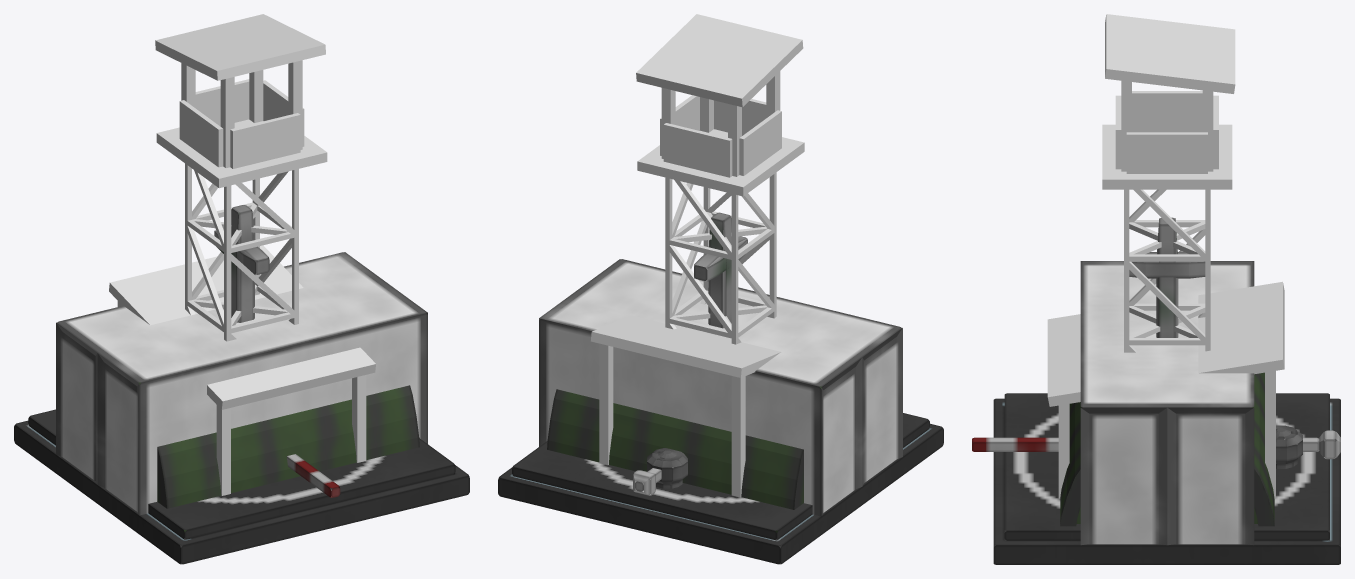
Rendered from military props.fbx.
3 views of the same model, side by side, from view 1: azimuth 30°, elevation 25°; view 2: azimuth 150°, elevation 25°; view 3: azimuth 270°, elevation 25° (orthographic). The views are drawn at different scales.
Visible parts, largest first — view 1: container, helicopterStand, hangar, cuboid_6, cuboid_74, cuboid_65, cuboid_73, cuboid_71, beveled_cuboid, cuboid_72, cuboid_4, cuboid_3 (+9 smaller); view 2: container, helicopterStand, hangar, cuboid_74, cuboid_6, cuboid_65, cuboid_72, cuboid_71, cuboid_2, cuboid_5, beveled_cuboid, cylinder (+13 smaller); view 3: container, helicopterStand, cuboid_6, cuboid_74, hangar, cuboid_65, cuboid_66, cuboid_71, cuboid, beveled_cuboid, beveled_cuboid_1, cuboid_5 (+11 smaller).
Boxes of the visible parts, x1,y1,x2,y2 form: container: (56, 252, 427, 515); helicopterStand: (14, 409, 469, 564); hangar: (138, 382, 419, 532); cuboid_6: (109, 245, 375, 409); cuboid_74: (155, 14, 325, 80); cuboid_65: (156, 119, 327, 188); cuboid_73: (230, 113, 300, 168); cuboid_71: (179, 100, 223, 167); beveled_cuboid: (231, 205, 254, 322); cuboid_72: (195, 79, 249, 126); cuboid_4: (352, 375, 366, 462); cuboid_3: (216, 405, 230, 495); container: (539, 259, 902, 516); helicopterStand: (498, 413, 943, 564); hangar: (547, 386, 821, 532); cuboid_74: (636, 14, 803, 107); cuboid_6: (591, 315, 780, 377); cuboid_65: (637, 129, 804, 196); cuboid_72: (663, 123, 732, 177); cuboid_71: (739, 110, 781, 175); cuboid_2: (731, 376, 745, 497); cuboid_5: (599, 343, 613, 464); beveled_cuboid: (708, 212, 731, 328); cylinder: (647, 448, 687, 488); container: (1080, 261, 1254, 545); helicopterStand: (993, 393, 1340, 564); cuboid_6: (1047, 281, 1284, 406); cuboid_74: (1105, 14, 1235, 93); hangar: (1060, 372, 1274, 526); cuboid_65: (1102, 124, 1232, 189); cuboid_66: (1126, 132, 1207, 173); cuboid_71: (1132, 91, 1202, 132); cuboid: (972, 430, 1340, 459); beveled_cuboid: (1156, 217, 1178, 337); beveled_cuboid_1: (1129, 252, 1205, 278); cuboid_5: (1265, 371, 1275, 498).
Size of the model in its own units: 400 by 585 by 425.
Materials: 5 (5 with a texture image).
